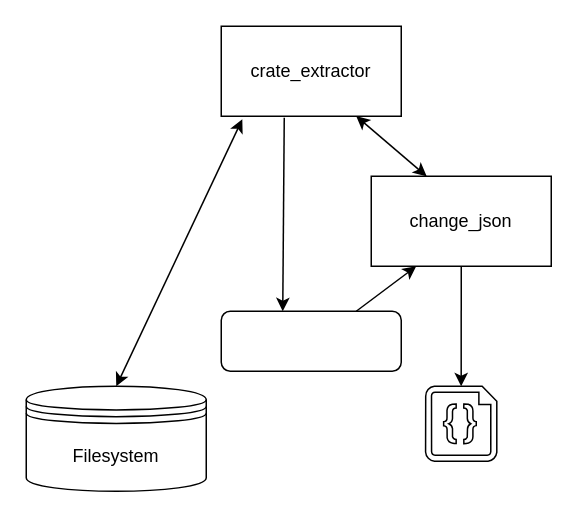
This 578x519 diagram has some shape labels left out. The shapes that lost their labels are listed below. From the top down, each one's centre as x and y in pixels, then its label:
At [310,340]: "Change".
At [460,423]: "JSON Data".
